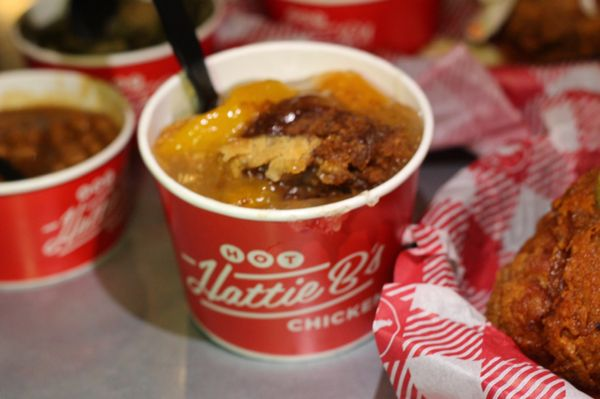salad: (152, 0, 219, 113)
sandwich: (152, 0, 219, 113)
sushi: (0, 68, 136, 288)
